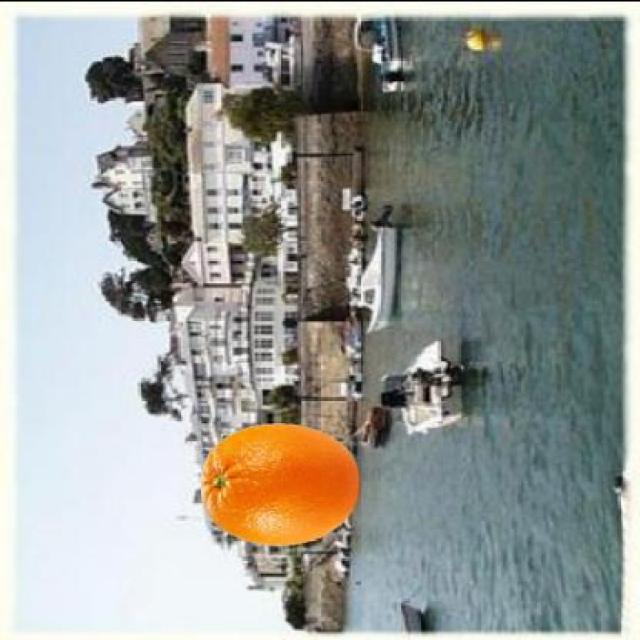Orange: (198, 420, 360, 546)
